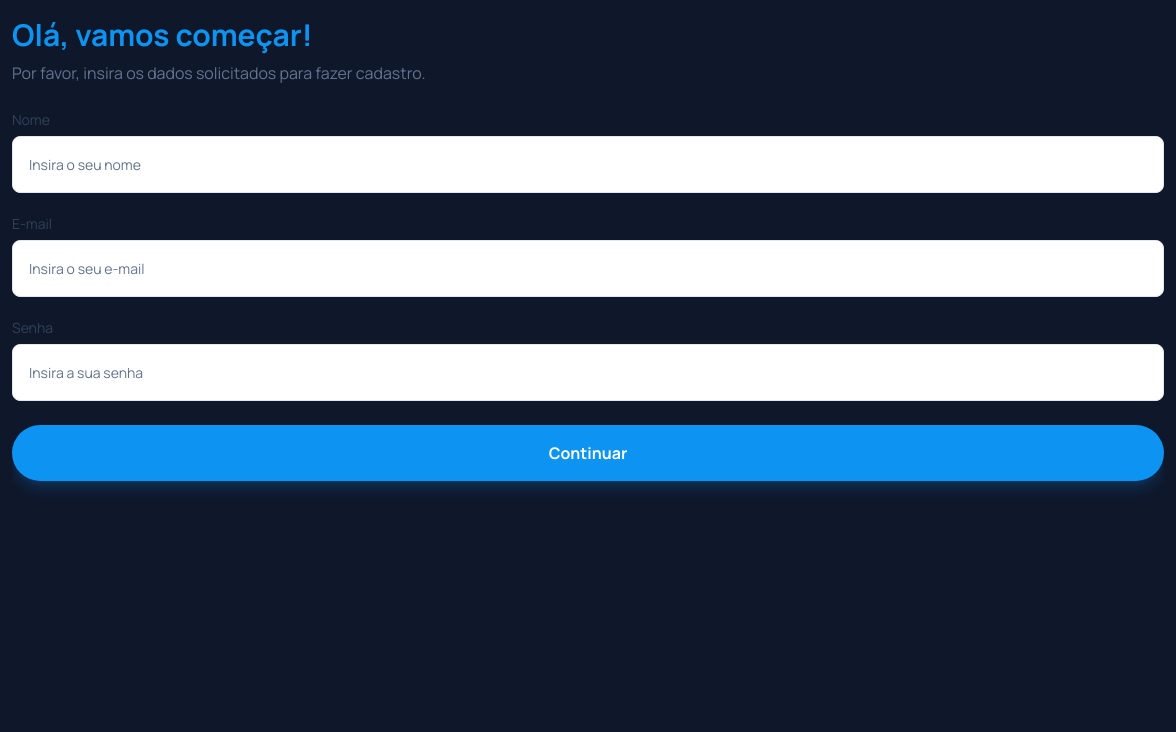
Scenario: RegisterForm › deve exibir falha centralizada como HTTP 400
Type "Test User" into the field with placeholder "Insira o seu nome" at (588,164), box [12, 136, 1164, 193]
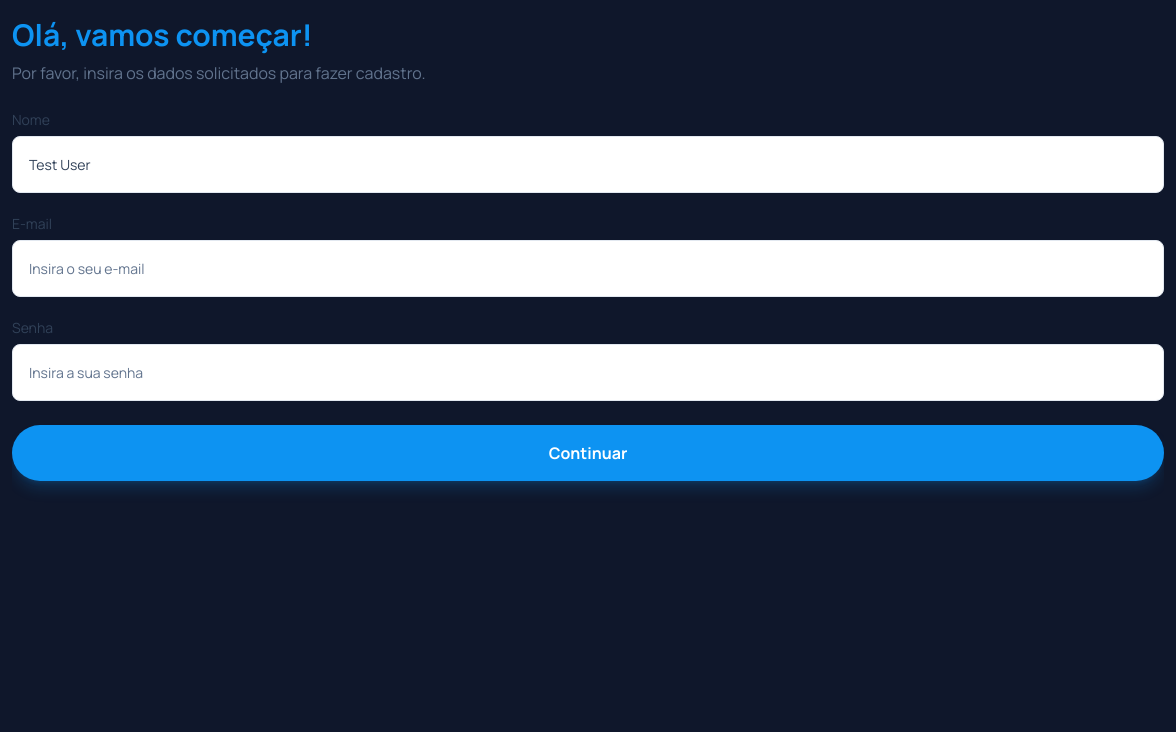
Type "test@email.com" into the field with placeholder "Insira o seu e-mail" at (588,268), box [12, 240, 1164, 297]
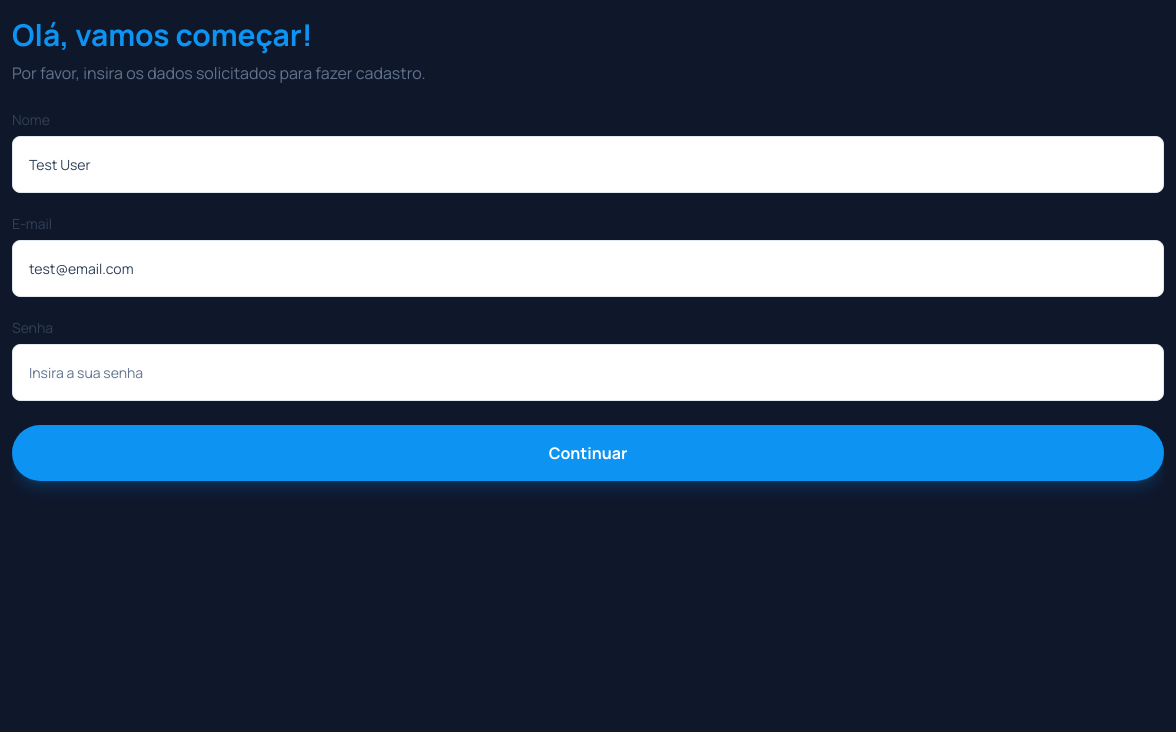
Type "12345678" into the password field with placeholder "Insira a sua senha" at (588,372), box [12, 344, 1164, 401]
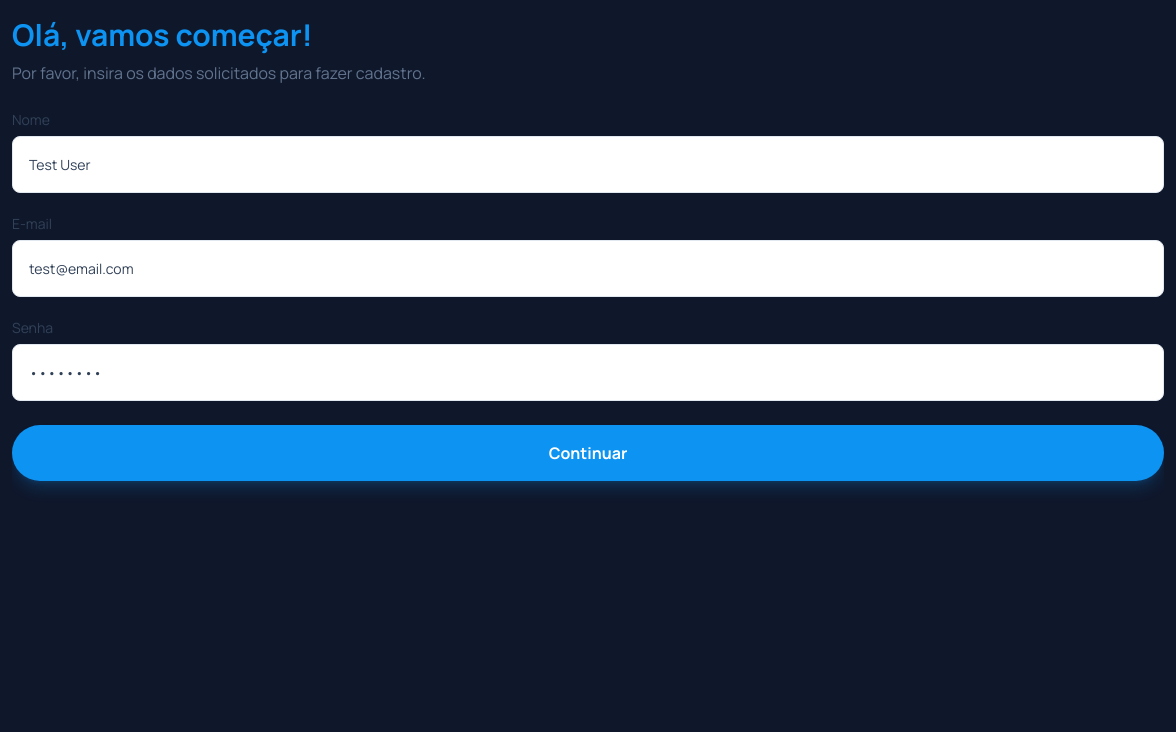
Click the button "Continuar" at (588,453), box [12, 425, 1164, 481]
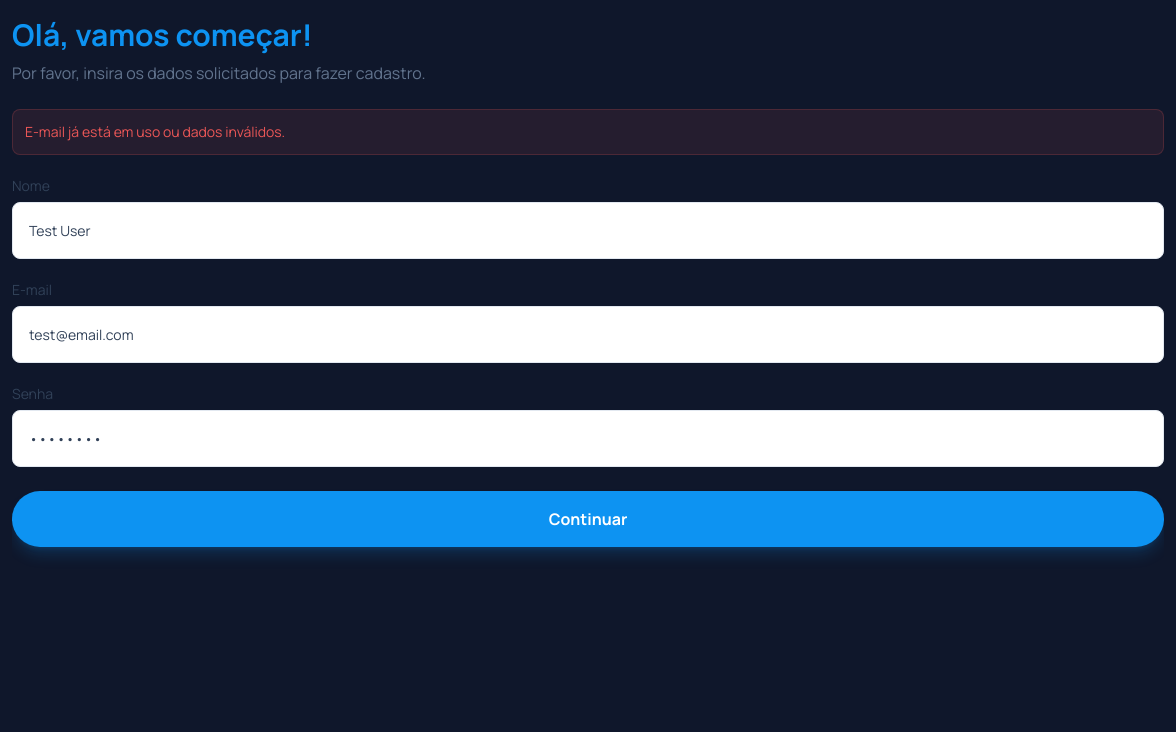
Check: the text "E-mail já está em uso ou dados inválidos." is shown, box [12, 109, 1164, 155]
